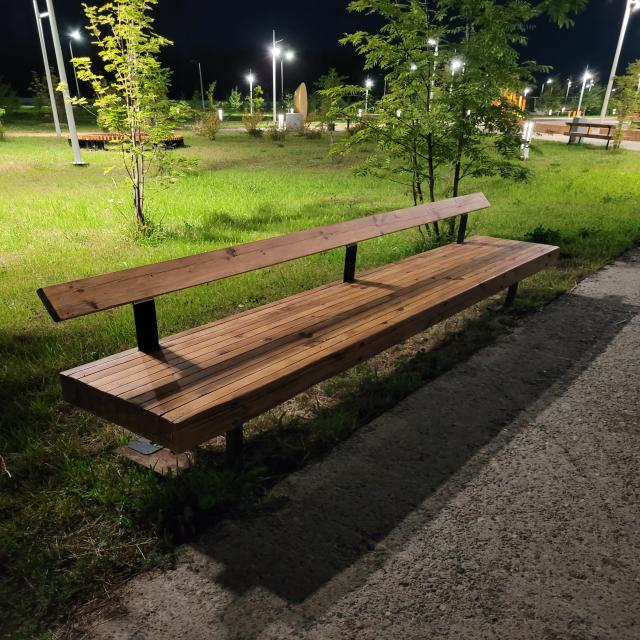Bench: (36, 192, 559, 455)
